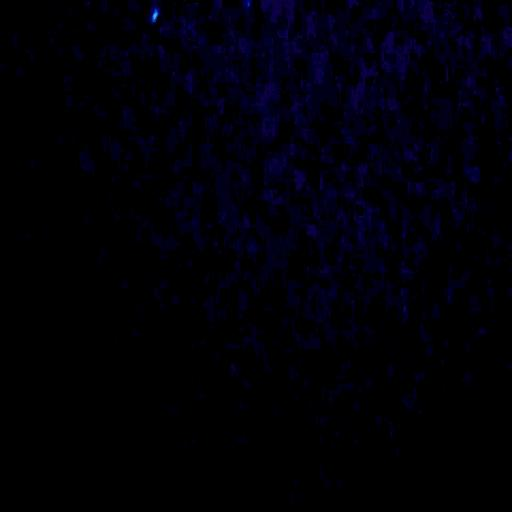object-detection-project: (152, 9, 158, 22)
